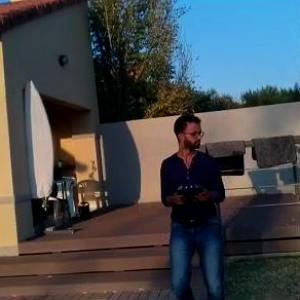follow: (155, 112, 230, 299)
